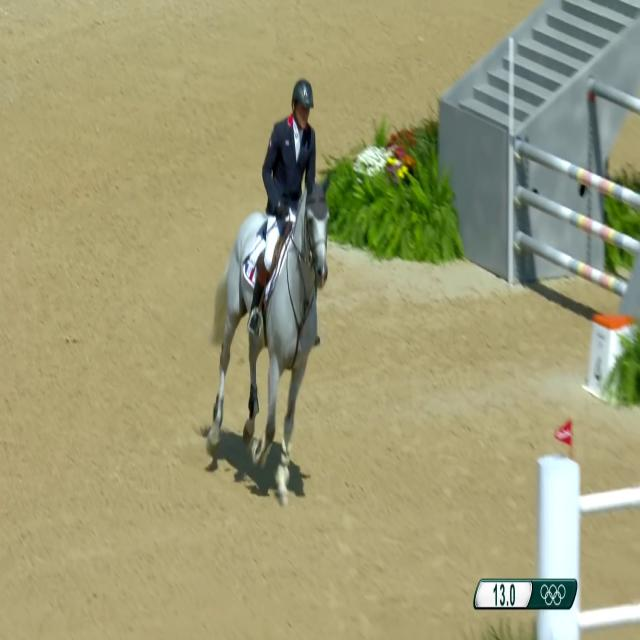Horse Rider: (262, 69, 330, 328)
Horse Running: (210, 208, 338, 502)
